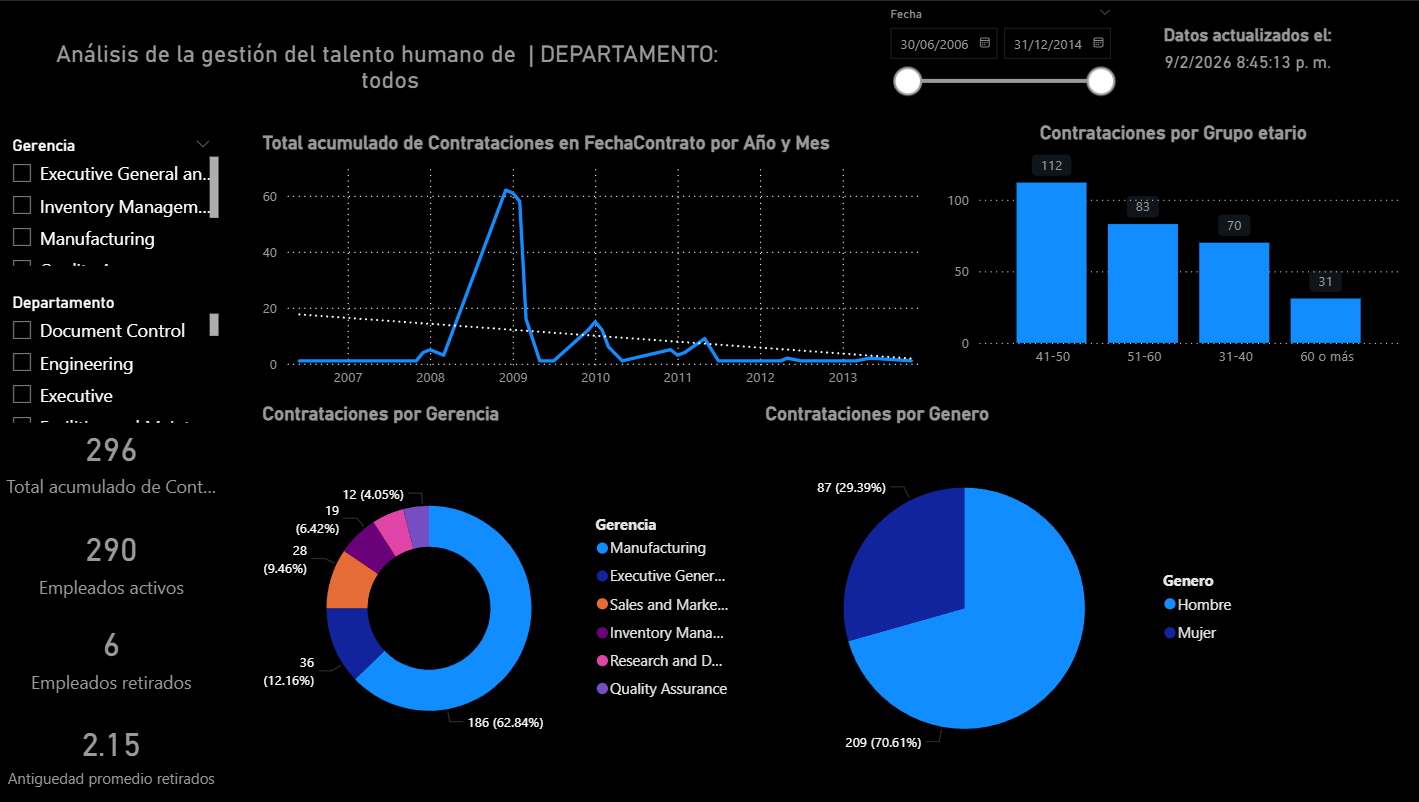

What the dashboard file says about the page in this screenshot:
{"tool":"powerbi","page":{"name":"Dashboard RRHH","canvas":[1280,720],"ordinal":5},"visuals":[{"type":"card","title":"Datos actualizados el:","fields":{"Values":["Min(Update.Actualizado)"]},"box":[1010,20.9,223.6,51.8],"z":0},{"type":"slicer","fields":{"Values":["Calendario.Fecha"]},"box":[788,0,223,100],"z":1000},{"type":"clusteredColumnChart","fields":{"Y":["RH.Contrataciones"],"Category":["RH.Grupo etario"]},"box":[846.5,108.1,417.3,229.2],"z":2000},{"type":"card","fields":{"Values":["RH.Total acumulado de Contrataciones en FechaContrato"]},"box":[0,363.2,203.2,95.1],"z":3000},{"type":"card","fields":{"Values":["RH.Antiguedad promedio retirados"]},"box":[0,629.2,203.2,90.8],"z":4000},{"type":"slicer","fields":{"Values":["RH.Gerencia"]},"box":[0,116.8,203.2,126.5],"z":5000},{"type":"card","fields":{"Values":["RH.Titulo RH"]},"box":[0,0,703.8,116.8],"z":6000},{"type":"slicer","fields":{"Values":["RH.Departamento"]},"box":[0,257.3,203.2,126.5],"z":7000},{"type":"lineChart","fields":{"Category":["Calendario.Fecha.Variación.Jerarquía de fechas.Año","Calendario.Fecha.Variación.Jerarquía de fechas.Mes"],"Y":["RH.Total acumulado de Contrataciones en FechaContrato"]},"box":[232.4,116.8,605.4,238.9],"z":8000},{"type":"card","fields":{"Values":["RH.Empleados activos"]},"box":[0,458.4,203.2,85.4],"z":9000},{"type":"card","fields":{"Values":["RH.Empleados retirados"]},"box":[0,543.8,203.2,85.4],"z":10000},{"type":"donutChart","fields":{"Y":["RH.Contrataciones"],"Category":["RH.Gerencia"]},"box":[232.4,360,437.8,351.4],"z":11000},{"type":"pieChart","fields":{"Y":["RH.Contrataciones"],"Category":["RH.Genero"]},"box":[684.3,360,437.8,351.4],"z":12000}]}

Visuals, with their boxes in screenshot pixels (x1, y1, x2, y2), scaled from the page's 1280x720 canvas onto the 1419x802 screenshot:
"Datos actualizados el:" card: <bbox>1120, 23, 1368, 81</bbox>
slicer - Calendario.Fecha: <bbox>874, 0, 1121, 111</bbox>
clusteredColumnChart - RH.Contrataciones x RH.Grupo etario: <bbox>938, 120, 1401, 376</bbox>
card - RH.Total acumulado de Contrataciones en FechaContrato: <bbox>0, 405, 225, 510</bbox>
card - RH.Antiguedad promedio retirados: <bbox>0, 701, 225, 801</bbox>
slicer - RH.Gerencia: <bbox>0, 130, 225, 271</bbox>
card - RH.Titulo RH: <bbox>0, 0, 780, 130</bbox>
slicer - RH.Departamento: <bbox>0, 287, 225, 428</bbox>
lineChart - Calendario.Fecha.Variación.Jerarquía de fechas.Año x Calendario.Fecha.Variación.Jerarquía de fechas.Mes: <bbox>258, 130, 929, 396</bbox>
card - RH.Empleados activos: <bbox>0, 511, 225, 606</bbox>
card - RH.Empleados retirados: <bbox>0, 606, 225, 701</bbox>
donutChart - RH.Contrataciones x RH.Gerencia: <bbox>258, 401, 743, 792</bbox>
pieChart - RH.Contrataciones x RH.Genero: <bbox>759, 401, 1244, 792</bbox>
